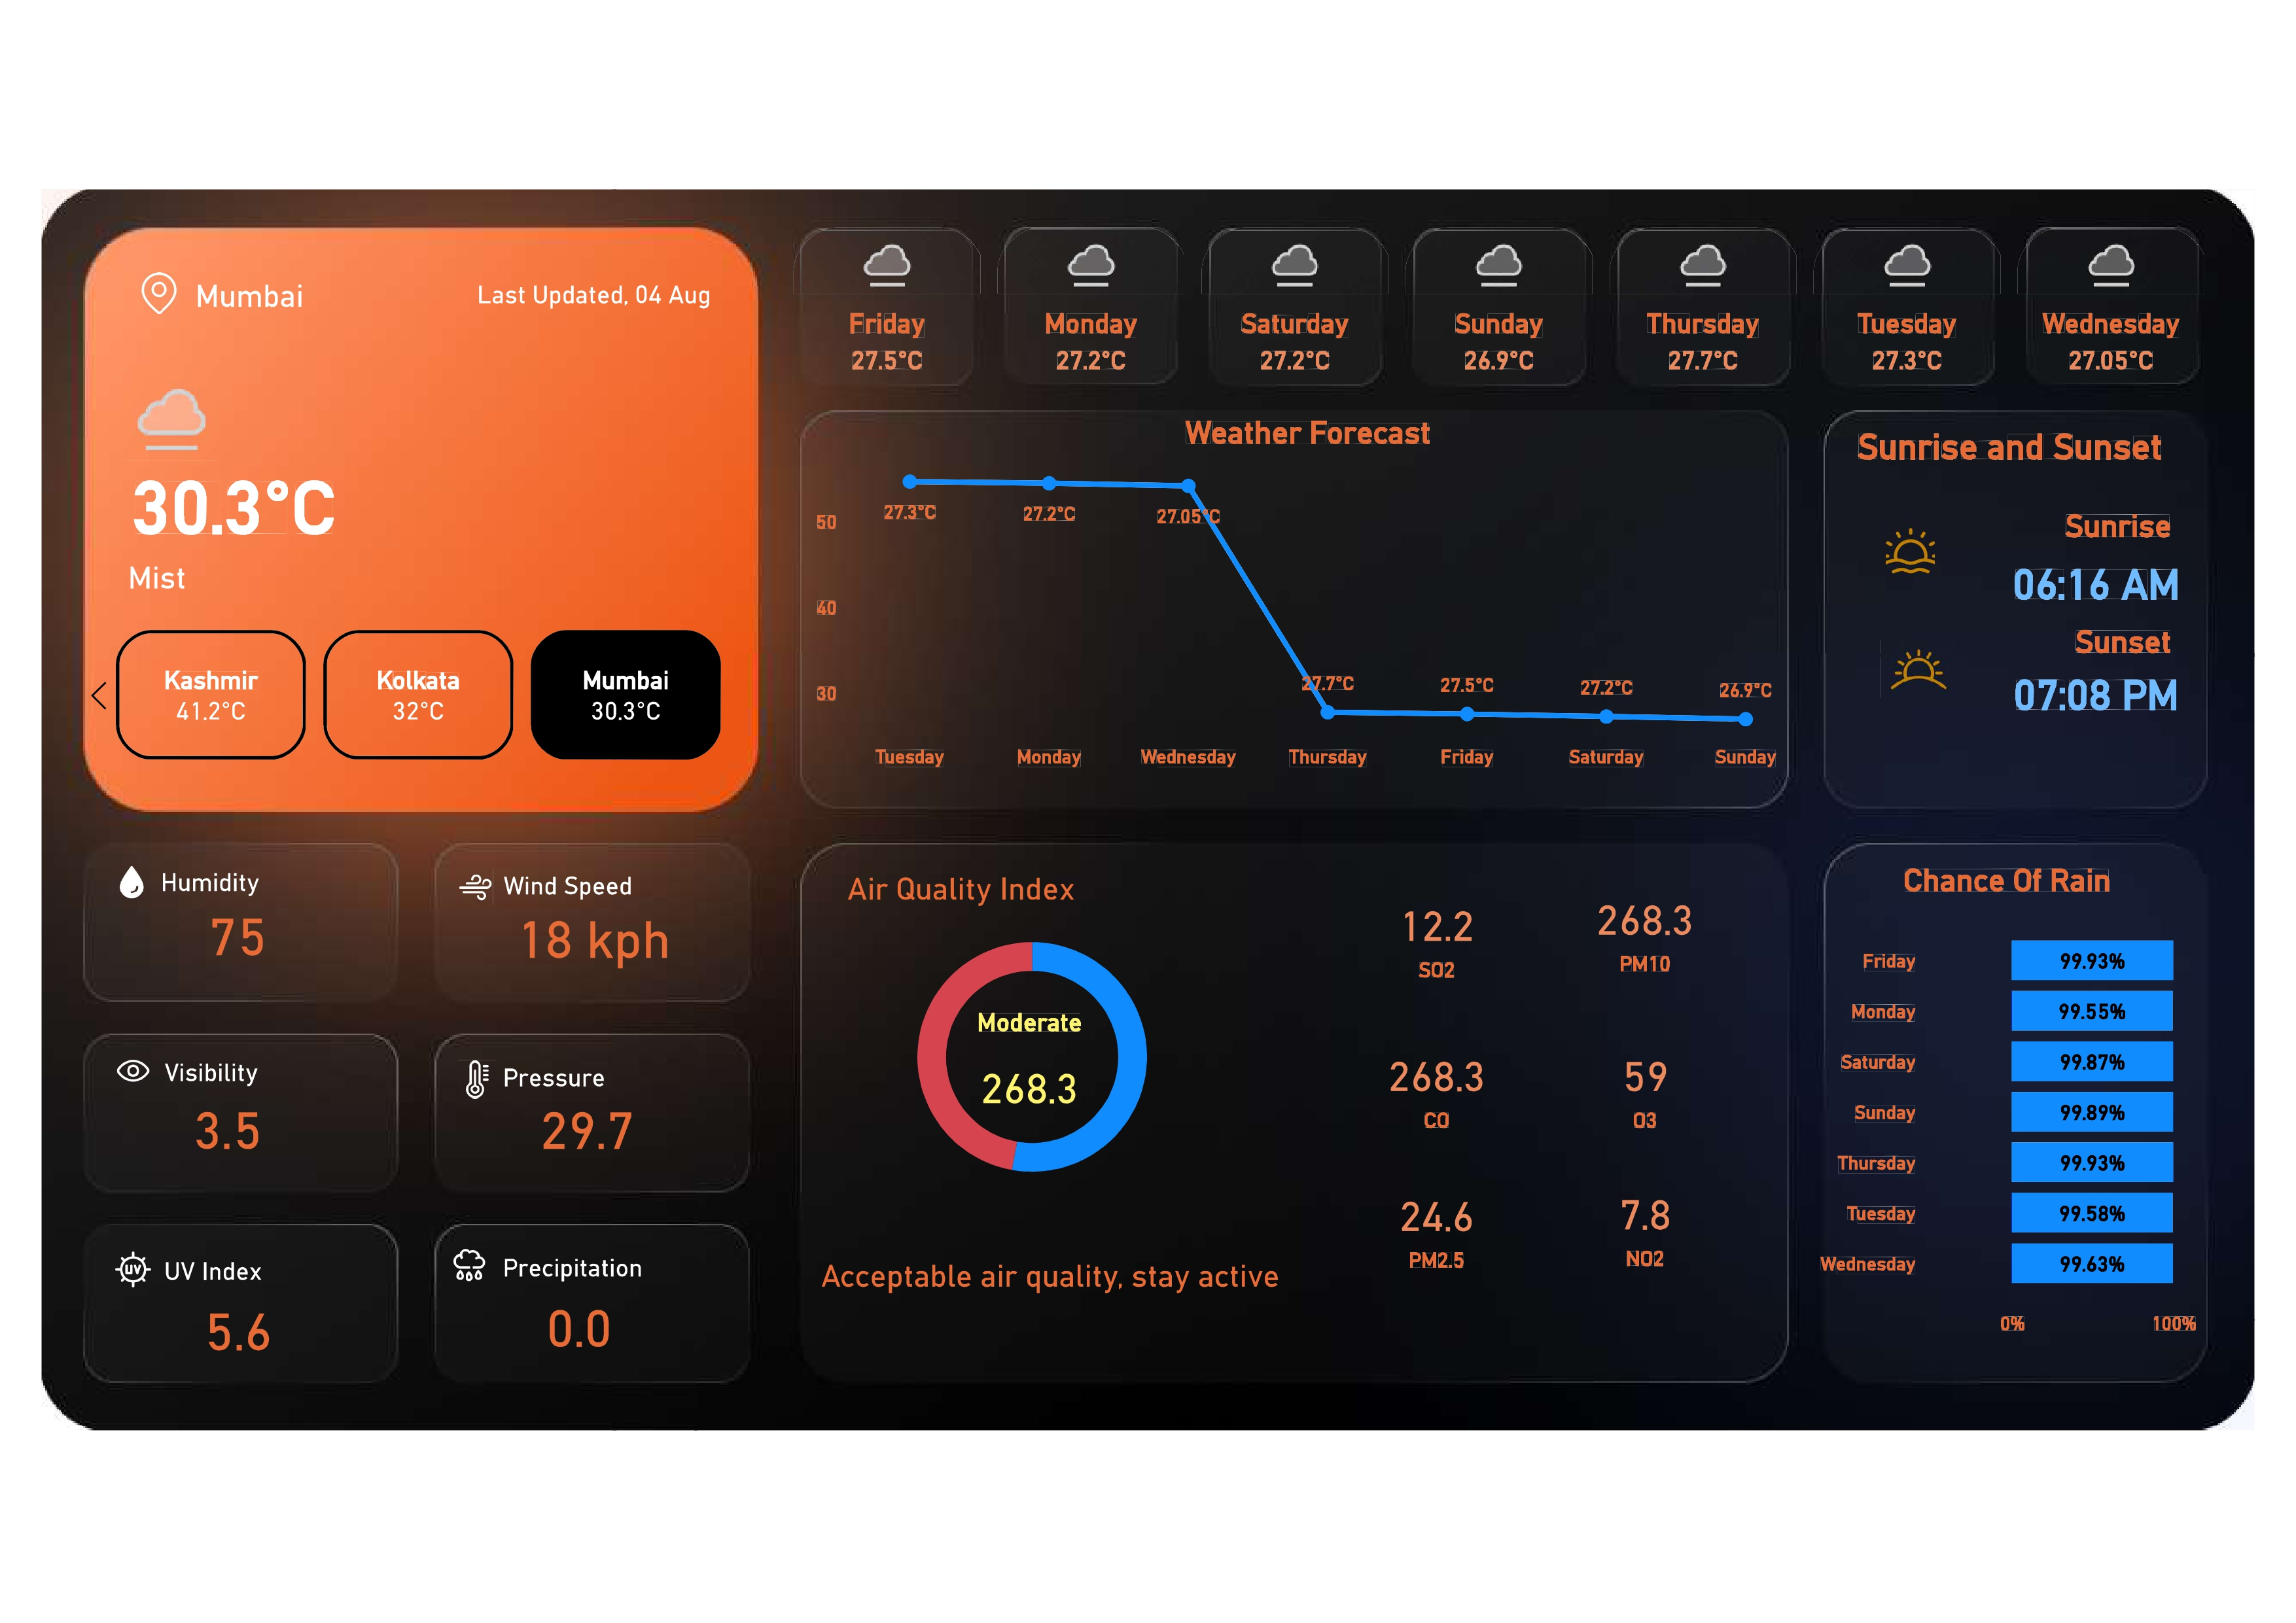

This screenshot's page, from the dashboard's own definition file:
{"tool":"powerbi","page":{"name":"Page 1","canvas":[1280,720],"ordinal":0},"visuals":[{"type":"advancedSlicerVisual","fields":{"Values":["Location.location.name"]},"box":[18.4,249.9,400.3,85.5],"z":0},{"type":"shape","box":[47.6,155.6,132.4,55.8],"z":1000},{"type":"shape","box":[47.6,211.4,132.4,27.9],"z":2000},{"type":"shape","box":[87.1,47.6,132.4,27.9],"z":3000},{"type":"shape","box":[249.7,47.6,156.8,27.9],"z":4000},{"type":"image","box":[47.6,43,39.5,33.7],"z":5000},{"type":"cardVisual","fields":{"Data":["Min(Current.current.condition.icon)"]},"box":[19.7,76.7,108,106.9],"z":6000},{"type":"shape","box":[264.8,389.1,80.1,27.9],"z":7000},{"type":"shape","box":[264.8,500.6,69.7,27.9],"z":8000},{"type":"shape","box":[264.8,612.1,92.9,24.4],"z":9000},{"type":"shape","box":[68.5,497.1,62.7,27.9],"z":10000},{"type":"shape","box":[68.5,612.1,69.7,27.9],"z":11000},{"type":"image","box":[36,493.6,32.5,32.5],"z":12000},{"type":"image","box":[235.8,389.1,30.2,30.2],"z":13000},{"type":"image","box":[37.2,383.3,30.2,34.8],"z":14000},{"type":"image","box":[235.8,498.3,32.5,32.5],"z":15000},{"type":"image","box":[36,608.6,32.5,32.5],"z":16000},{"type":"image","box":[231.1,606.3,32.5,32.5],"z":17000},{"type":"card","fields":{"Values":["Sum(Current.current.humidity)"]},"box":[81.6,402.6,63.8,55.4],"z":18000},{"type":"card","fields":{"Values":["_Measures.Wind Speed"]},"box":[259,404.5,121.1,55.4],"z":19000},{"type":"card","fields":{"Values":["Sum(Current.current.pressure_in)"]},"box":[273.1,514.3,84.5,56.3],"z":20000},{"type":"card","fields":{"Values":["Sum(Current.current.vis_km)"]},"box":[71.3,514.3,74.1,56.3],"z":21000},{"type":"card","fields":{"Values":["Sum(Current.current.uv)"]},"box":[81.6,630.6,63.8,56.3],"z":22000},{"type":"card","fields":{"Values":["Sum(Current.current.precip_in)"]},"box":[278.7,628.7,63.8,56.3],"z":23000},{"type":"advancedSlicerVisual","fields":{"Values":["Forecast_Day.Day_Name"]},"box":[429.1,15.9,829.7,95.1],"z":24000},{"type":"lineChart","title":"Weather Forecast","fields":{"Category":["Forecast_Day.Day_Name"],"Y":["Sum(Forecast_Day.forecast.forecastday.day.avgtemp_c)"]},"box":[442.4,130.5,580.3,211.3],"z":25000},{"type":"textbox","title":"Sunrise and Sunset","box":[1040.2,136.7,196.3,59.7],"z":26000},{"type":"shape","box":[1097.1,206.1,182.9,44.4],"z":27000},{"type":"shape","box":[1097.1,270.6,182.9,43.3],"z":28000},{"type":"textbox","title":"Sunrise","box":[1123.6,183.9,113.1,27.5],"z":29000},{"type":"textbox","title":"Sunset","box":[1113,250.5,123.7,55],"z":30000},{"type":"image","box":[1059.1,255.8,52.8,43.3],"z":31000},{"type":"image","box":[1062.3,188.1,38.1,42.3],"z":32000},{"type":"hundredPercentStackedBarChart","title":"Chance Of Rain","fields":{"Y":["Sum(Forecast_Hours.forecast.forecastday.hour.chance_of_rain)","Current.Left_Value_Rain"],"Category":["Forecast_Day.Day_Name"]},"box":[1022.3,388.6,229.4,281.8],"z":33000},{"type":"shape","box":[67,386.5,80.7,28.3],"z":34000},{"type":"shape","box":[464,390.7,140.4,28.3],"z":35000},{"type":"card","fields":{"Values":["Sum(Current.current.air_quality.co)"]},"box":[866.9,391,121.2,74.9],"z":36000},{"type":"card","fields":{"Values":["Sum(Current.current.air_quality.o3)"]},"box":[866.9,482.5,121.2,73.8],"z":37000},{"type":"card","fields":{"Values":["Sum(Current.current.air_quality.no2)"]},"box":[866.9,565.1,121.2,68.3],"z":38000},{"type":"card","fields":{"Values":["Sum(Current.current.air_quality.so2)"]},"box":[746.9,399.9,120.1,63.9],"z":39000},{"type":"card","fields":{"Values":["Sum(Current.current.air_quality.co)"]},"box":[746.9,482.5,120.1,73.8],"z":40000},{"type":"card","fields":{"Values":["Sum(Current.current.air_quality.pm2_5)"]},"box":[746.9,567.3,120.1,66.1],"z":41000},{"type":"card","fields":{"Values":["Sum(Current.current.air_quality.co)"]},"box":[519.4,473.9,105,80.1],"z":42000},{"type":"donutChart","fields":{"Y":["Sum(Current.current.air_quality.co)","_Measures.Left_value_PM10"]},"box":[422,414.4,301.9,175.3],"z":43000},{"type":"shape","box":[400.3,614.6,366.8,28.1],"z":43001}]}

Visuals, with their boxes on the page's 1280x720 design canvas (x1, y1, x2, y2). These are canvas units, not pixel positions in the 2296x1623 screenshot, which may show the page scaled, cropped or inside an application window:
advancedSlicerVisual - Location.location.name: (18, 250, 419, 335)
shape: (48, 156, 180, 211)
shape: (48, 211, 180, 239)
shape: (87, 48, 220, 76)
shape: (250, 48, 406, 76)
image: (48, 43, 87, 77)
cardVisual - Min(Current.current.condition.icon): (20, 77, 128, 184)
shape: (265, 389, 345, 417)
shape: (265, 501, 334, 528)
shape: (265, 612, 358, 636)
shape: (68, 497, 131, 525)
shape: (68, 612, 138, 640)
image: (36, 494, 68, 526)
image: (236, 389, 266, 419)
image: (37, 383, 67, 418)
image: (236, 498, 268, 531)
image: (36, 609, 68, 641)
image: (231, 606, 264, 639)
card - Sum(Current.current.humidity): (82, 403, 145, 458)
card - _Measures.Wind Speed: (259, 404, 380, 460)
card - Sum(Current.current.pressure_in): (273, 514, 358, 571)
card - Sum(Current.current.vis_km): (71, 514, 145, 571)
card - Sum(Current.current.uv): (82, 631, 145, 687)
card - Sum(Current.current.precip_in): (279, 629, 342, 685)
advancedSlicerVisual - Forecast_Day.Day_Name: (429, 16, 1259, 111)
"Weather Forecast" lineChart: (442, 130, 1023, 342)
"Sunrise and Sunset" textbox: (1040, 137, 1236, 196)
shape: (1097, 206, 1280, 250)
shape: (1097, 271, 1280, 314)
"Sunrise" textbox: (1124, 184, 1237, 211)
"Sunset" textbox: (1113, 250, 1237, 306)
image: (1059, 256, 1112, 299)
image: (1062, 188, 1100, 230)
"Chance Of Rain" hundredPercentStackedBarChart: (1022, 389, 1252, 670)
shape: (67, 386, 148, 415)
shape: (464, 391, 604, 419)
card - Sum(Current.current.air_quality.co): (867, 391, 988, 466)
card - Sum(Current.current.air_quality.o3): (867, 482, 988, 556)
card - Sum(Current.current.air_quality.no2): (867, 565, 988, 633)
card - Sum(Current.current.air_quality.so2): (747, 400, 867, 464)
card - Sum(Current.current.air_quality.co): (747, 482, 867, 556)
card - Sum(Current.current.air_quality.pm2_5): (747, 567, 867, 633)
card - Sum(Current.current.air_quality.co): (519, 474, 624, 554)
donutChart - Sum(Current.current.air_quality.co) x _Measures.Left_value_PM10: (422, 414, 724, 590)
shape: (400, 615, 767, 643)
